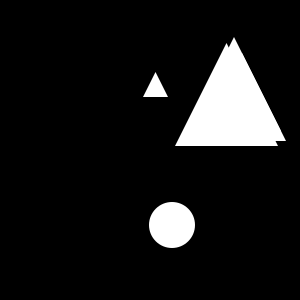rectangle: (149, 202, 195, 248)
triangle: (175, 43, 278, 146), (187, 37, 281, 131), (198, 53, 286, 141), (143, 72, 168, 97)
